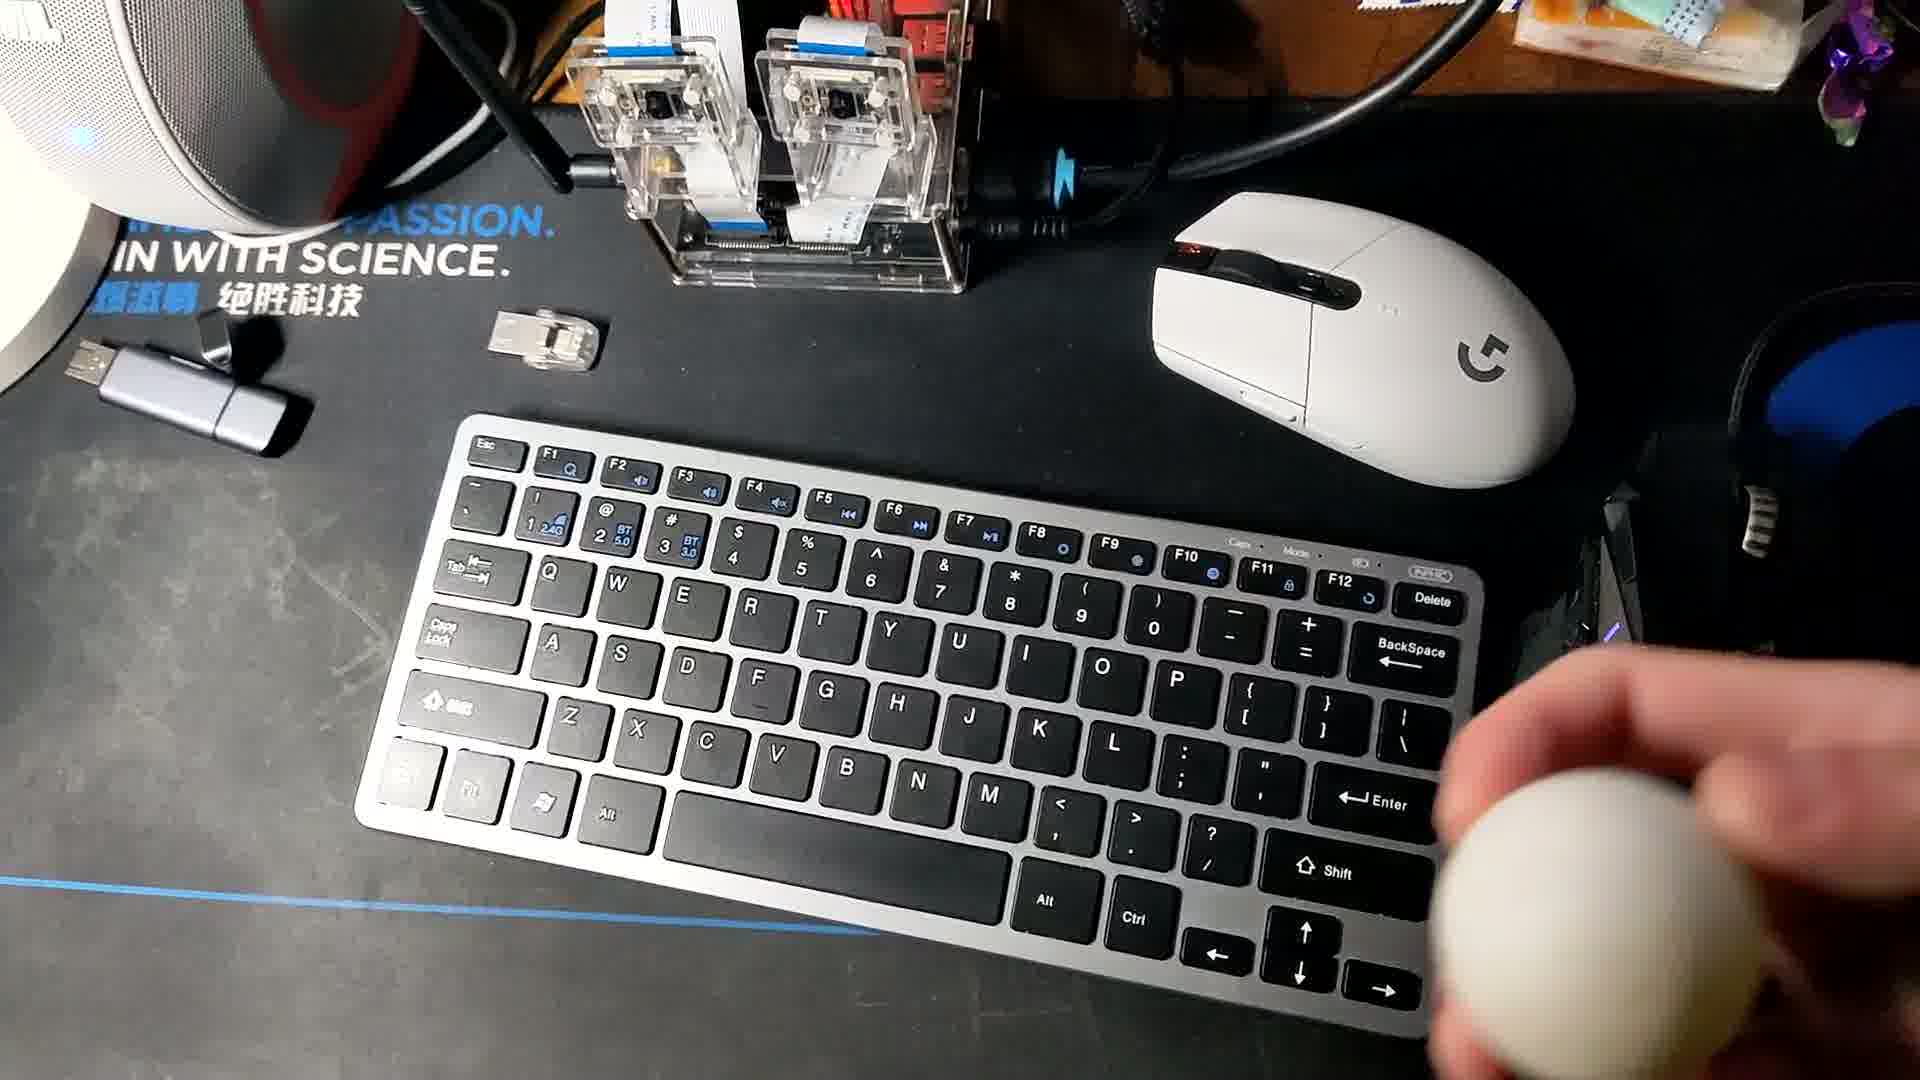Ball: (1437, 762, 1755, 1068)
